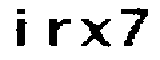7: (119, 6, 151, 50)
i: (9, 6, 32, 51)
r: (43, 12, 72, 50)
x: (77, 14, 114, 50)
